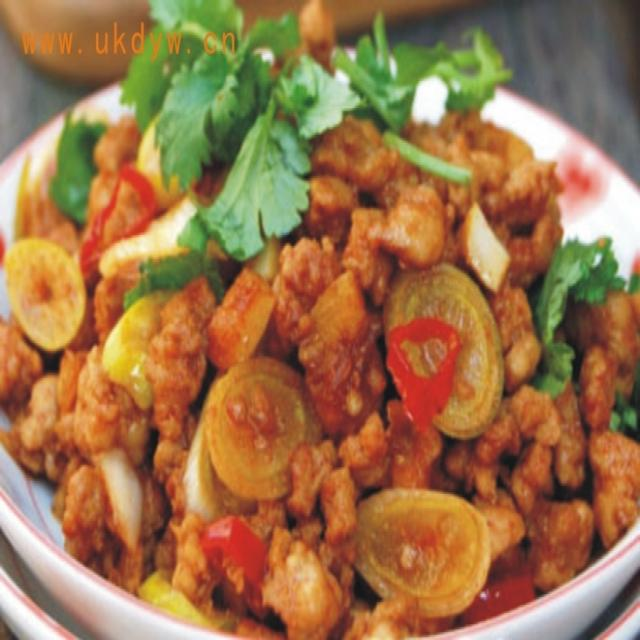豆腐料理: (3, 16, 628, 634)
